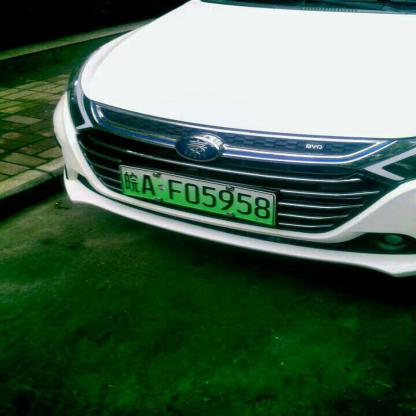lp: (121, 165, 273, 223)
